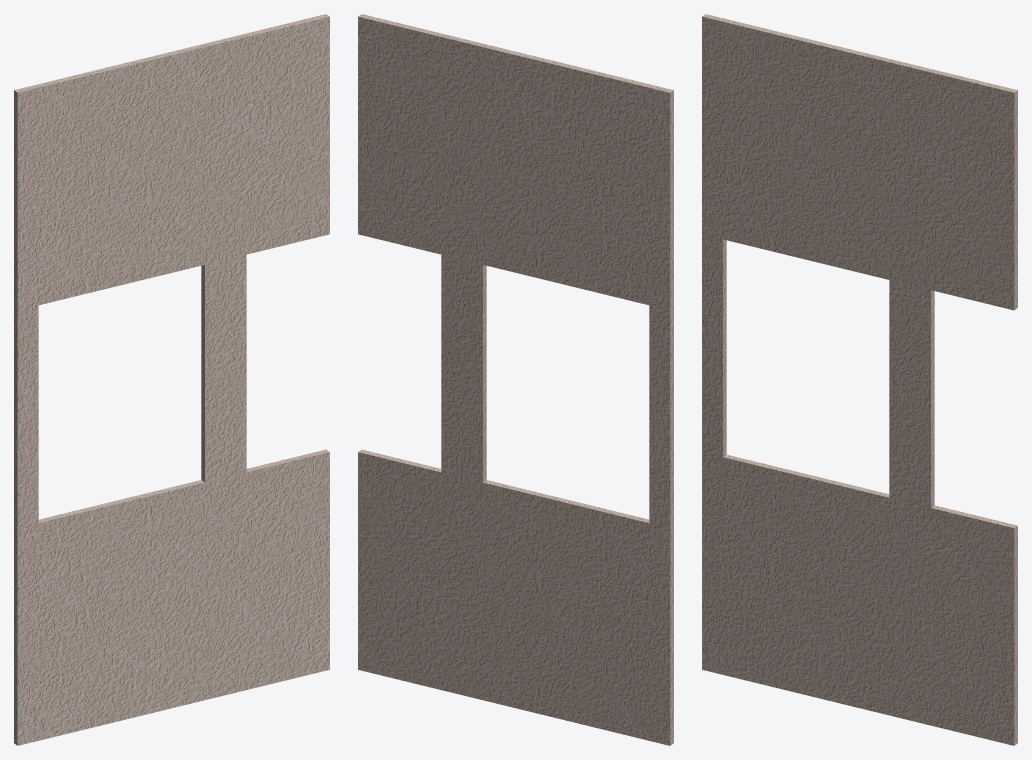
The model's file is subwall pair w window.FBX.
3 views of the same model, side by side, from view 1: azimuth 30°, elevation 25°; view 2: azimuth 150°, elevation 25°; view 3: azimuth 330°, elevation 25° (orthographic).
Parts seen in each view (by area): view 1: subwall pair002; view 2: subwall pair002; view 3: subwall pair002.
Part boxes in pixels (left/top/right/bottom): subwall pair002: left=14, top=14, right=329, bottom=745; subwall pair002: left=358, top=14, right=673, bottom=745; subwall pair002: left=702, top=14, right=1017, bottom=745.
Size of the model in its own units: 59.06 by 118 by 1.18.
